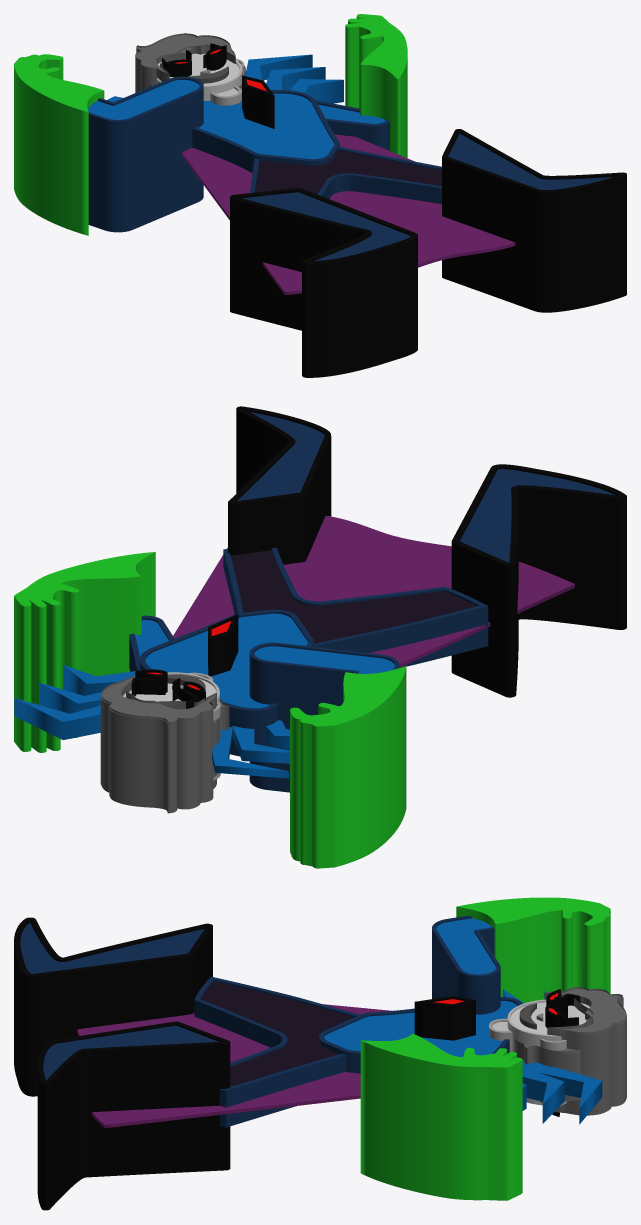
File: emoji_u1f9b9.glb
3 views of the same model, one above another, from view 1: azimuth 30°, elevation 25°; view 2: azimuth 150°, elevation 25°; view 3: azimuth 270°, elevation 25° (orthographic). The views are drawn at different scales.
Visible parts, largest first — view 1: emoji_u1f9b9; view 2: emoji_u1f9b9; view 3: emoji_u1f9b9.
Part boxes in pixels (bbox=[...]): emoji_u1f9b9: bbox=[14, 14, 626, 377]; emoji_u1f9b9: bbox=[14, 406, 626, 868]; emoji_u1f9b9: bbox=[14, 897, 626, 1210].
Bounding box in the file's own units: 0.0238 × 0.008 × 0.0334.
